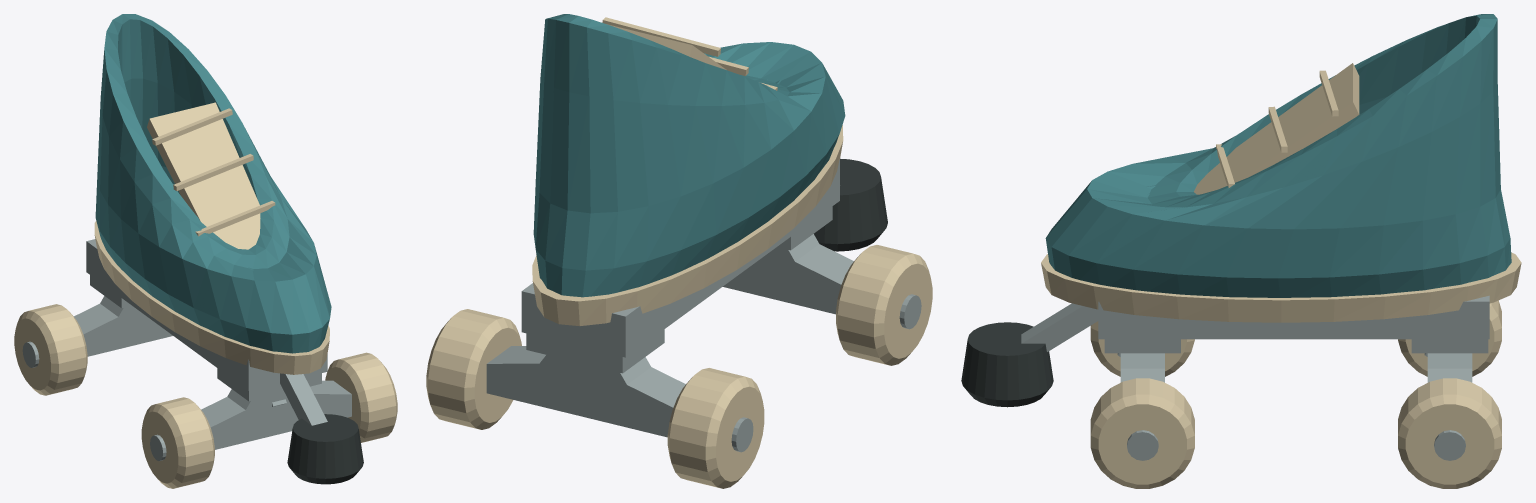
The picture shows the model from 3 angles, left to right: view 1: azimuth 30°, elevation 25°; view 2: azimuth 150°, elevation 25°; view 3: azimuth 270°, elevation 25°; orthographic projection. The views are drawn at different scales.
Parts seen in each view (by area): view 1: WholeOpenInstepAndHeelBootShell, WholeRaisedInstepTongue, WholeFullFootOutsole, WholeGroundFootWheel_0_0, WholeGroundFootWheel_1_0, WholeShoulderedTruckHanger_0, WholeRoundToeStop, WholeGroundFootWheel_0_1, WholeShoulderedTruckHanger_1, WholeContinuousUnderShoeChassis, WholeForwardInclinedStopStem, WholeTruckUpperSeat_0 (+3 smaller); view 2: WholeOpenInstepAndHeelBootShell, WholeShoulderedTruckHanger_1, WholeFullFootOutsole, WholeGroundFootWheel_1_0, WholeGroundFootWheel_0_0, WholeGroundFootWheel_1_1, WholeContinuousUnderShoeChassis, WholeShoulderedTruckHanger_0, WholeRoundToeStop, WholeTruckUpperSeat_1, WholeFixedInstepLace_2, WholeRaisedInstepTongue (+3 smaller); view 3: WholeOpenInstepAndHeelBootShell, WholeFullFootOutsole, WholeContinuousUnderShoeChassis, WholeGroundFootWheel_0_1, WholeGroundFootWheel_1_1, WholeRoundToeStop, WholeRaisedInstepTongue, WholeForwardInclinedStopStem, WholeGroundFootWheel_1_0, WholeGroundFootWheel_0_0, WholeShoulderedTruckHanger_1, WholeShoulderedTruckHanger_0 (+4 smaller).
Part boxes in pixels (left/top/right/bottom): WholeOpenInstepAndHeelBootShell: left=95, top=14, right=331, bottom=353; WholeRaisedInstepTongue: left=147, top=102, right=260, bottom=249; WholeFullFootOutsole: left=94, top=221, right=329, bottom=374; WholeGroundFootWheel_0_0: left=141, top=397, right=214, bottom=488; WholeGroundFootWheel_1_0: left=14, top=304, right=87, bottom=395; WholeShoulderedTruckHanger_0: left=201, top=380, right=351, bottom=449; WholeRoundToeStop: left=287, top=414, right=363, bottom=484; WholeGroundFootWheel_0_1: left=325, top=352, right=397, bottom=442; WholeShoulderedTruckHanger_1: left=74, top=296, right=172, bottom=356; WholeContinuousUnderShoeChassis: left=86, top=239, right=327, bottom=390; WholeForwardInclinedStopStem: left=280, top=373, right=327, bottom=425; WholeTruckUpperSeat_0: left=217, top=368, right=321, bottom=401; WholeOpenInstepAndHeelBootShell: left=533, top=14, right=845, bottom=297; WholeShoulderedTruckHanger_1: left=486, top=346, right=685, bottom=437; WholeFullFootOutsole: left=532, top=125, right=843, bottom=326; WholeGroundFootWheel_1_0: left=667, top=368, right=764, bottom=488; WholeGroundFootWheel_0_0: left=836, top=245, right=932, bottom=365; WholeGroundFootWheel_1_1: left=426, top=309, right=521, bottom=429; WholeContinuousUnderShoeChassis: left=521, top=160, right=839, bottom=357; WholeShoulderedTruckHanger_0: left=723, top=234, right=853, bottom=314; WholeRoundToeStop: left=814, top=158, right=887, bottom=251; WholeTruckUpperSeat_1: left=526, top=329, right=664, bottom=373; WholeFixedInstepLace_2: left=602, top=17, right=720, bottom=56; WholeRaisedInstepTongue: left=607, top=24, right=726, bottom=69; WholeOpenInstepAndHeelBootShell: left=1045, top=14, right=1511, bottom=297; WholeFullFootOutsole: left=1041, top=252, right=1521, bottom=322; WholeContinuousUnderShoeChassis: left=1098, top=295, right=1489, bottom=339; WholeGroundFootWheel_0_1: left=1090, top=378, right=1194, bottom=488; WholeGroundFootWheel_1_1: left=1398, top=378, right=1501, bottom=488; WholeRoundToeStop: left=961, top=322, right=1053, bottom=407; WholeRaisedInstepTongue: left=1194, top=63, right=1359, bottom=194; WholeForwardInclinedStopStem: left=1021, top=303, right=1098, bottom=351; WholeGroundFootWheel_1_0: left=1398, top=300, right=1501, bottom=376; WholeGroundFootWheel_0_0: left=1090, top=321, right=1194, bottom=376; WholeShoulderedTruckHanger_1: left=1427, top=353, right=1472, bottom=382; WholeShoulderedTruckHanger_0: left=1120, top=353, right=1164, bottom=382.
Bounding box in the file's own units: 0.198 × 0.283 × 0.352.
